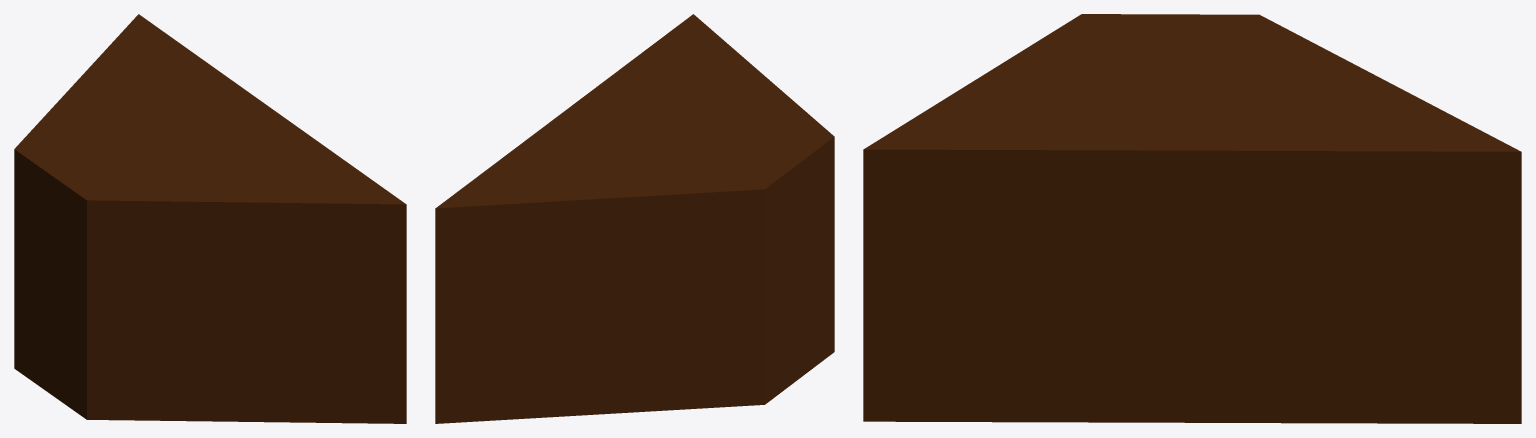
The model's file is quadri_right_cible.glb.
3 renders of one model, left to right at view 1: azimuth 30°, elevation 25°; view 2: azimuth 150°, elevation 25°; view 3: azimuth 270°, elevation 25°, orthographic. The views are drawn at different scales.
Visible parts, largest first — view 1: Cube.017; view 2: Cube.017; view 3: Cube.017.
Boxes of the visible parts, box(x1,y1,x2,y2) form: Cube.017: box(14, 14, 406, 423); Cube.017: box(435, 14, 834, 423); Cube.017: box(863, 14, 1521, 423).
Size of the model in its own units: 0.0818 by 0.0753 by 0.1616.
